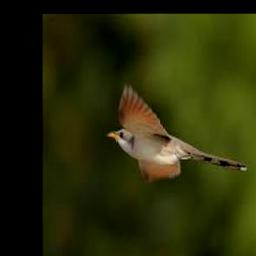Cuckoo: (107, 86, 248, 177)
